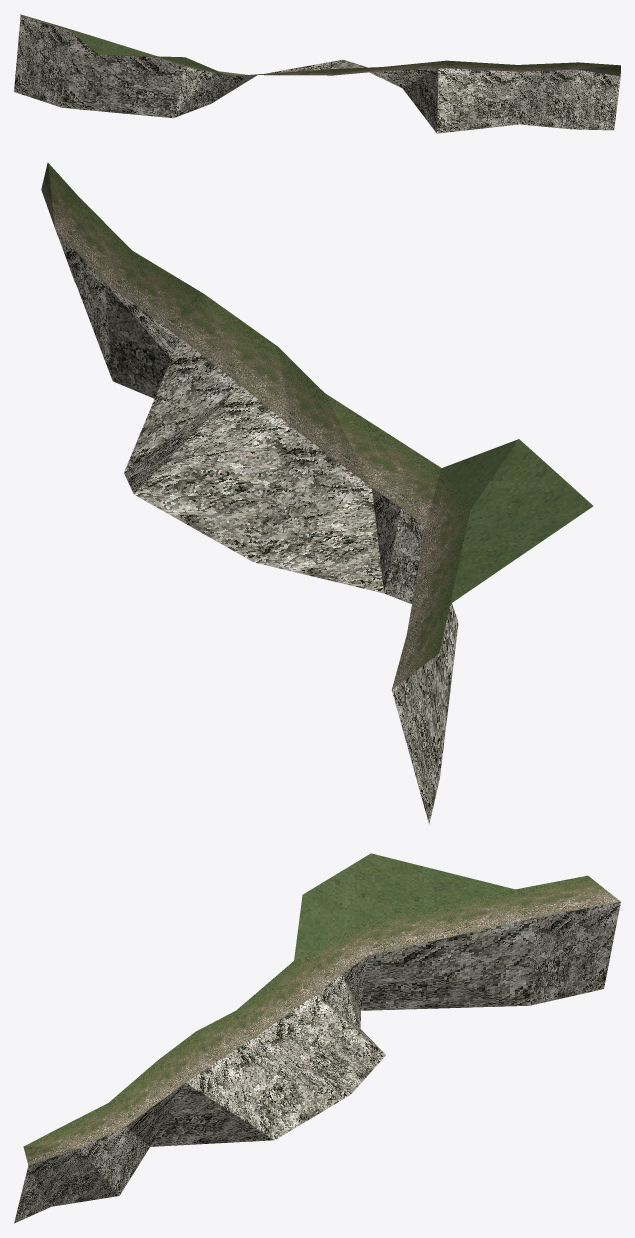
File: lod_cs_landbit_03.obj
The picture shows the model from 3 angles, top to bottom: view 1: azimuth 30°, elevation 25°; view 2: azimuth 150°, elevation 25°; view 3: azimuth 270°, elevation 25°; orthographic projection. The views are drawn at different scales.
Parts seen in each view (by area): view 1: lod_cs_landbit_03; view 2: lod_cs_landbit_03; view 3: lod_cs_landbit_03.
Part boxes in pixels (box(x1,y1,x2,y2)): lod_cs_landbit_03: box(14, 14, 620, 133); lod_cs_landbit_03: box(41, 162, 593, 824); lod_cs_landbit_03: box(14, 853, 620, 1223).
Bounding box in the file's own units: 163 × 38.82 × 153.
Materials: 3 (3 with a texture image).
